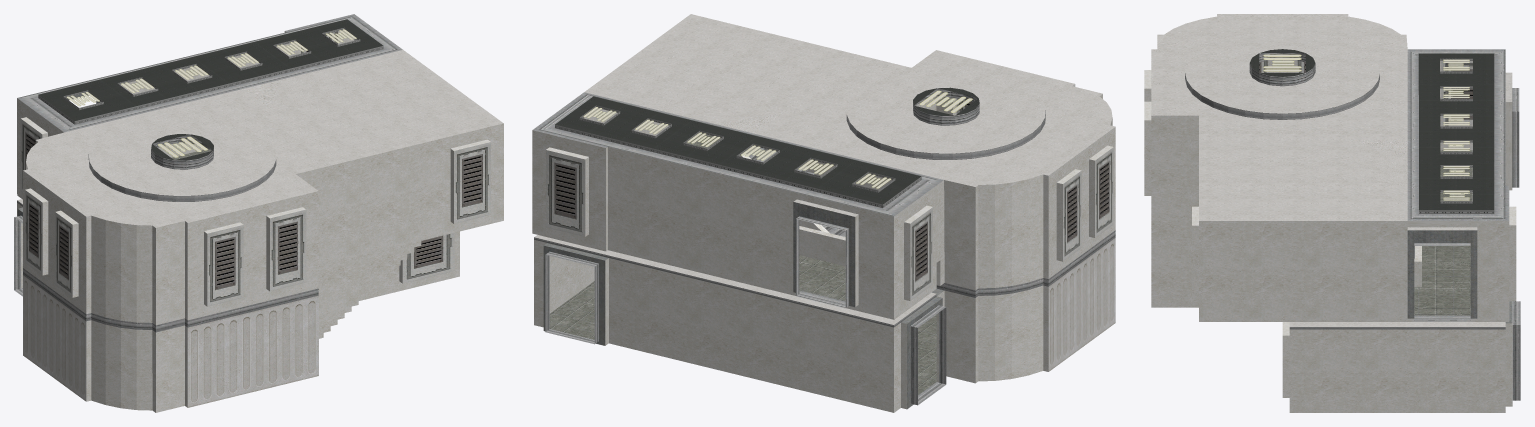
Rendered from ply_corl_house_lg_s01_fp1_r8_mainhall1_mesh_r8.fbx.
3 renders of one model, left to right at view 1: azimuth 30°, elevation 25°; view 2: azimuth 150°, elevation 25°; view 3: azimuth 270°, elevation 25°, orthographic. The views are drawn at different scales.
Visible parts, largest first — view 1: mesh_node; view 2: mesh_node; view 3: mesh_node.
Part boxes in pixels (x1=…): mesh_node: x1=14, y1=14, x2=503, y2=412; mesh_node: x1=532, y1=14, x2=1115, y2=412; mesh_node: x1=1144, y1=14, x2=1520, y2=412.
Size of the model in its own units: 18.33 by 8.23 by 13.51.
